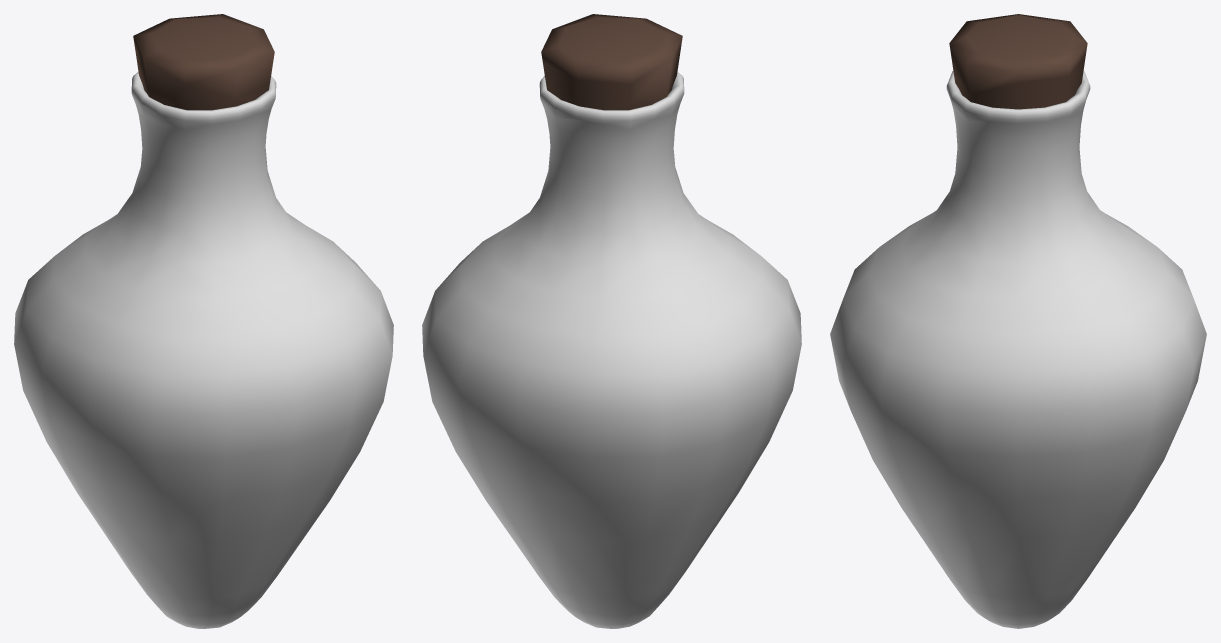
Rendered from quaternius-rpg-items-potion-4-empty.glb.
3 views of the same model, side by side, from view 1: azimuth 30°, elevation 25°; view 2: azimuth 150°, elevation 25°; view 3: azimuth 270°, elevation 25° (orthographic).
Visible parts, largest first — view 1: Potion4_Empty; view 2: Potion4_Empty; view 3: Potion4_Empty.
Part boxes in pixels (x1=…): Potion4_Empty: x1=14, y1=14, x2=393, y2=628; Potion4_Empty: x1=422, y1=14, x2=801, y2=628; Potion4_Empty: x1=830, y1=14, x2=1206, y2=628.
Size of the model in its own units: 0.7187 by 1.24 by 0.7187.
